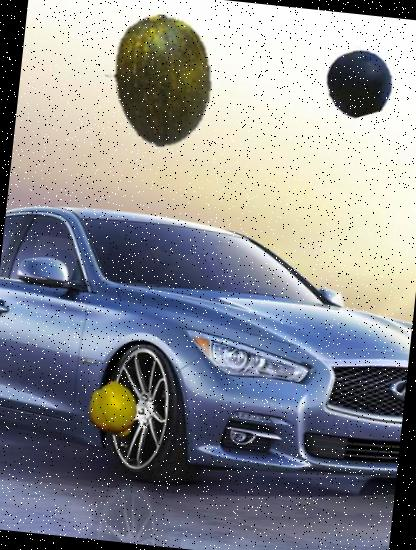Grape: (323, 46, 396, 119)
Melon: (84, 8, 230, 154)
Quince: (81, 379, 146, 443)
